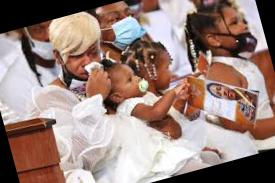mask_weared_incorrect: (226, 10, 267, 55), (68, 45, 108, 87), (28, 22, 56, 59)
with_mask: (103, 3, 142, 45), (192, 1, 229, 4)
without_mask: (117, 64, 153, 100), (157, 55, 180, 88), (210, 84, 235, 101)
